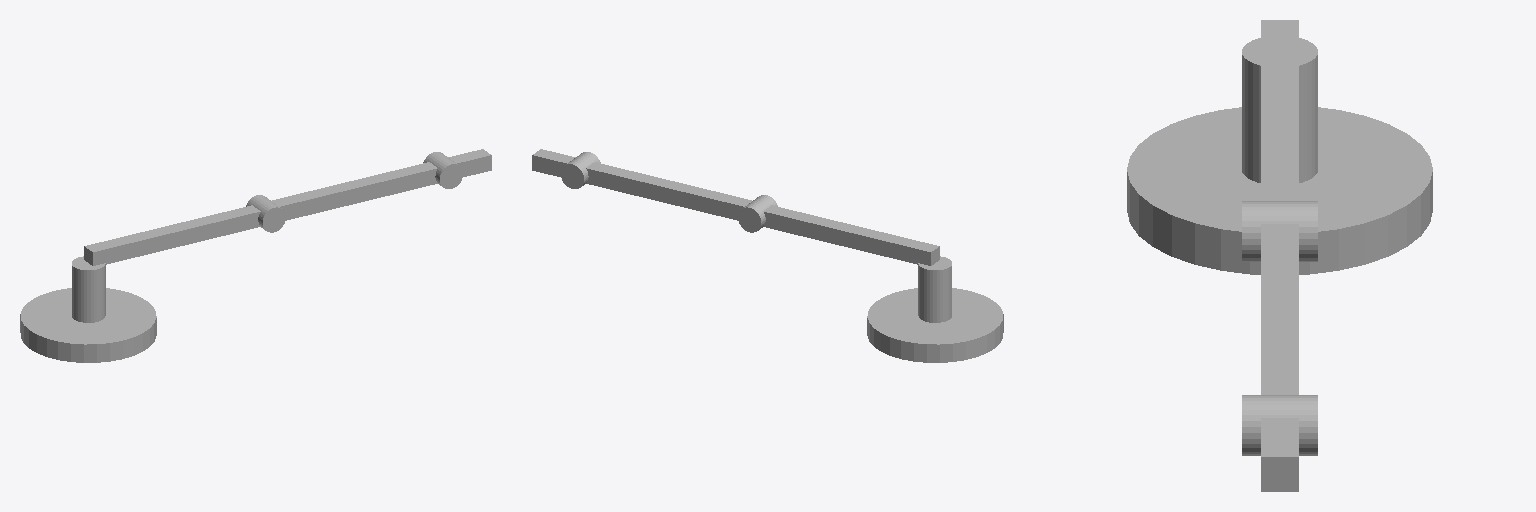
URDF robot description (arm):
<robot name="arm">
	<link name="world"/>
	<link name="base_link">
		<inertial>
			<mass value="1.0"/>
			<origin rpy="0 0 0" xyz="0 0 0.025"/>
			<inertia ixx="0.0027" iyy="0.0027" izz="0.005" ixy="0" ixz="0" iyz="0"/>
		</inertial>	
		<visual>
			<geometry>
				<cylinder length="0.03" radius="0.1"/>
			</geometry> 
			<material name="silver">
				<color rgba="0.75 0.75 0.75 1"/>
			</material>
			<origin rpy="0 0 0" xyz="0 0 0"/> 
		</visual>
		<collision>
			<geometry>
				<cylinder length="0.03" radius="0.1"/>
			</geometry>
			<origin rpy="0 0 0" xyz="0 0 0"/> 
		</collision>
	</link>
	<joint name="fixed" type="fixed">
		<parent link="world"/>
		<child link="base_link"/>
	</joint>
	<link name="torso">
		<inertial>
			<mass value="1.0"/>
			<origin rpy="0 0 0" xyz="0 0 0"/>
			<inertia ixx="0.02146" iyy="0.02146" izz="0.00125" ixy="0" ixz="0" iyz="0"/>
		</inertial>	
		<visual>		
			<geometry>
				<cylinder length="0.1" radius="0.025"/>
			</geometry>
			<material name="silver">
				<color rgba="0.75 0.75 0.75 1"/>
			</material>
			<origin rpy="0 0 0" xyz="0 0 -0.05"/>
		</visual>
		<collision>
			<geometry>
				<cylinder length="0.1" radius="0.025"/>
			</geometry>
			<origin rpy="0 0 0" xyz="0 0 -0.05"/>
		</collision>
	</link>
	<joint name="bottom_joint" type="revolute">
		<limit velocity="1.0" effort="30.0" upper="3.142" lower="-3.142"/>
		<axis xyz="0 0 1"/>
		<parent link="base_link"/>
		<child link="torso"/>
		<origin rpy="0 0 0" xyz="0 0 0.1"/>
	</joint>
	<link name="arm_connect_down">	
		<inertial>
			<mass value="1.0"/>
			<origin rpy="0 0 0" xyz="0 0 0"/>
			<inertia ixx="0.02146" iyy="0.02146" izz="0.00125" ixy="0" ixz="0" iyz="0"/>
		</inertial>	
		<visual>		
			<geometry>
				<box size="0.3 0.025 0.025"/>
			</geometry>
			<material name="silver">
				<color rgba="0.75 0.75 0.75 1"/>
			</material>
			<origin rpy="0 0 0" xyz="0.15 0 0.01"/>
		</visual>
		<collision>
			<geometry>
				<box size="0.3 0.025 0.025"/>
			</geometry>
			<origin rpy="0 0 0" xyz="0.15 0 0.01"/>
		</collision>
	</link>
	<joint name="arm_connect_torso" type="fixed">
		<parent link="torso"/>
		<child link="arm_connect_down"/>
	</joint>
	<link name="lower_arm">
		<inertial>
			<mass value="1.0"/>
			<origin rpy="0 0 0" xyz="0 0 0.05"/>
			<inertia ixx="0.01396" iyy="0.01396" izz="0.00125" ixy="0" ixz="0" iyz="0"/>
		</inertial>	
		<visual>
			<geometry>
				<cylinder length="0.05" radius="0.02"/>
			</geometry>
			<material name="silver"/>
			<origin rpy="0 0 0" xyz="0 0 0"/>
		</visual>
		<collision>
			<geometry>
				<cylinder length="0.1" radius="0.03"/>
			</geometry>
			<origin rpy="0 0 0" xyz="0 0 0"/>
		</collision>
	</link>
	<joint name="lower_arm_joint" type="revolute">
		<axis xyz="0 0 1"/>
		<limit velocity="1.0" effort="30.0" upper="3.142" lower="0"/>
		<parent link="arm_connect_down"/>
		<child link="lower_arm"/>
		<origin rpy="1.5708 0 0" xyz="0.3 0 0.01"/>
	</joint>
	<link name="arm_connect_top">	
		<inertial>
			<mass value="1.0"/>
			<origin rpy="0 0 0" xyz="0 0 0"/>
			<inertia ixx="0.02146" iyy="0.02146" izz="0.00125" ixy="0" ixz="0" iyz="0"/>
		</inertial>	
		<visual>		
			<geometry>
				<box size="0.3 0.025 0.025"/>
			</geometry>
			<material name="silver">
				<color rgba="0.75 0.75 0.75 1"/>
			</material>
			<origin rpy="0 0 0" xyz="0.15 0 0"/>
		</visual>
		<collision>
			<geometry>
				<box size="0.3 0.025 0.025"/>
			</geometry>
			<origin rpy="0 0 0" xyz="0.15 0 0.3"/>
		</collision>
	</link>
	<joint name="link_12_arm_connect" type="fixed">
		<parent link="lower_arm"/>
		<child link="arm_connect_top"/>
	</joint>
	<link name="upper_arm">
		<inertial>
			<mass value="1.0"/>
			<origin rpy="0 0 0" xyz="0 0 0.05"/>
			<inertia ixx="0.01396" iyy="0.01396" izz="0.00125" ixy="0" ixz="0" iyz="0"/>
		</inertial>	
		<visual>
			<geometry>
				<cylinder length="0.05" radius="0.02"/>
			</geometry>
			<material name="silver"/>
			<origin rpy="0 0 0" xyz="0 0 0"/>
		</visual>
		<collision>
			<geometry>
				<cylinder length="0.05" radius="0.02"/>
			</geometry>
			<origin rpy="0 0 0" xyz="0 0 0"/>
		</collision>
	</link>
	<joint name="upper_arm_joint" type="revolute">
		<axis xyz="0 0 1"/>
		<limit velocity="1.0" effort="30.0" upper="3.142" lower="0"/>
		<parent link="arm_connect_top"/>
		<child link="upper_arm"/>
		<origin rpy="0 0 0" xyz="0.3 0 0"/>
	</joint>
	<link name="arm_connect_hand">	
		<inertial>
			<mass value="1.0"/>
			<origin rpy="0 0 0" xyz="0 0 0"/>
			<inertia ixx="0.02146" iyy="0.02146" izz="0.00125" ixy="0" ixz="0" iyz="0"/>
		</inertial>	
		<visual>		
			<geometry>
				<box size="0.075 0.025 0.025"/>
			</geometry>
			<material name="silver">
				<color rgba="0.75 0.75 0.75 1"/>
			</material>
			<origin rpy="0 0 0" xyz="0.0375 0 0"/>
		</visual>
		<collision>
			<geometry>
				<box size="0.075 0.025 0.025"/>
			</geometry>
			<origin rpy="0 0 0" xyz="0.0375 0 0"/>
		</collision>
	</link>
	<joint name="hand_arm_connect_joint" type="fixed">
		<parent link="upper_arm"/>
		<child link="arm_connect_hand"/>
	</joint>
</robot>

--- Facts derived from the render (not from the file) ---
The picture shows the robot from 3 angles, left to right: view 1: azimuth 30°, elevation 25°; view 2: azimuth 150°, elevation 25°; view 3: azimuth 270°, elevation 25°; orthographic projection.
Robot: arm — 8 links, 7 joints (3 revolute, 4 fixed); root link world; default pose: all joints at 0.
Links seen in each view (by area): view 1: base_link, arm_connect_down, arm_connect_top, torso, lower_arm, upper_arm, arm_connect_hand; view 2: base_link, arm_connect_down, arm_connect_top, torso, lower_arm, upper_arm, arm_connect_hand; view 3: base_link, arm_connect_down, arm_connect_top, torso, lower_arm, upper_arm, arm_connect_hand.
Boxes of the visible links, <box> form: base_link: <box>20,288,156,362</box>; arm_connect_down: <box>84,205,260,265</box>; arm_connect_top: <box>272,162,437,220</box>; torso: <box>72,256,105,322</box>; lower_arm: <box>246,195,285,232</box>; upper_arm: <box>423,152,462,188</box>; arm_connect_hand: <box>448,149,491,176</box>; base_link: <box>867,288,1003,362</box>; arm_connect_down: <box>763,205,939,265</box>; arm_connect_top: <box>586,162,751,220</box>; torso: <box>918,256,951,322</box>; lower_arm: <box>738,195,777,232</box>; upper_arm: <box>561,152,600,188</box>; arm_connect_hand: <box>532,149,575,176</box>; base_link: <box>1127,107,1432,274</box>; arm_connect_down: <box>1261,20,1298,200</box>; arm_connect_top: <box>1261,224,1298,394</box>; torso: <box>1242,38,1317,182</box>; lower_arm: <box>1242,201,1317,261</box>; upper_arm: <box>1242,395,1317,455</box>; arm_connect_hand: <box>1261,418,1298,491</box>.
Bounding box of the posed robot: 0.775 × 0.2 × 0.145 m (x, y, z).
Geometry: primitives only (box / cylinder / sphere), no mesh files.
